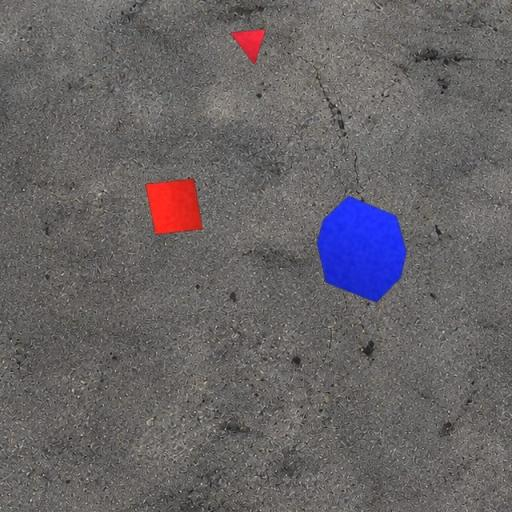RED_SQUARE: (145, 178, 203, 236)
